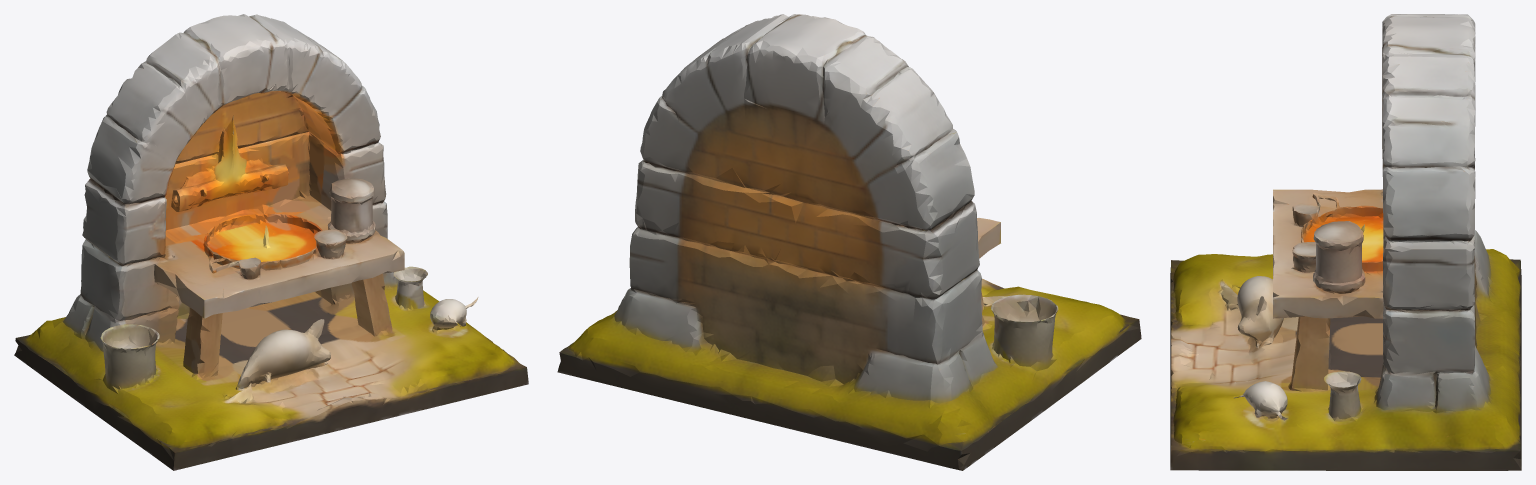
3 renders of one model, left to right at view 1: azimuth 30°, elevation 25°; view 2: azimuth 150°, elevation 25°; view 3: azimuth 270°, elevation 25°, orthographic. The views are drawn at different scales.
Visible parts, largest first — view 1: 031; view 2: 031; view 3: 031.
Boxes of the visible parts, x1,y1,x2,y2 form: 031: (14,14,528,470); 031: (557,14,1141,470); 031: (1170,14,1521,470).
Bounding box in the file's own units: 1.89 × 1.57 × 1.45.
1 material, 1 textured.
